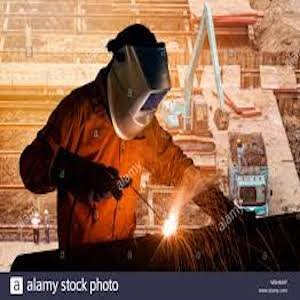heat: (148, 180, 207, 246)
